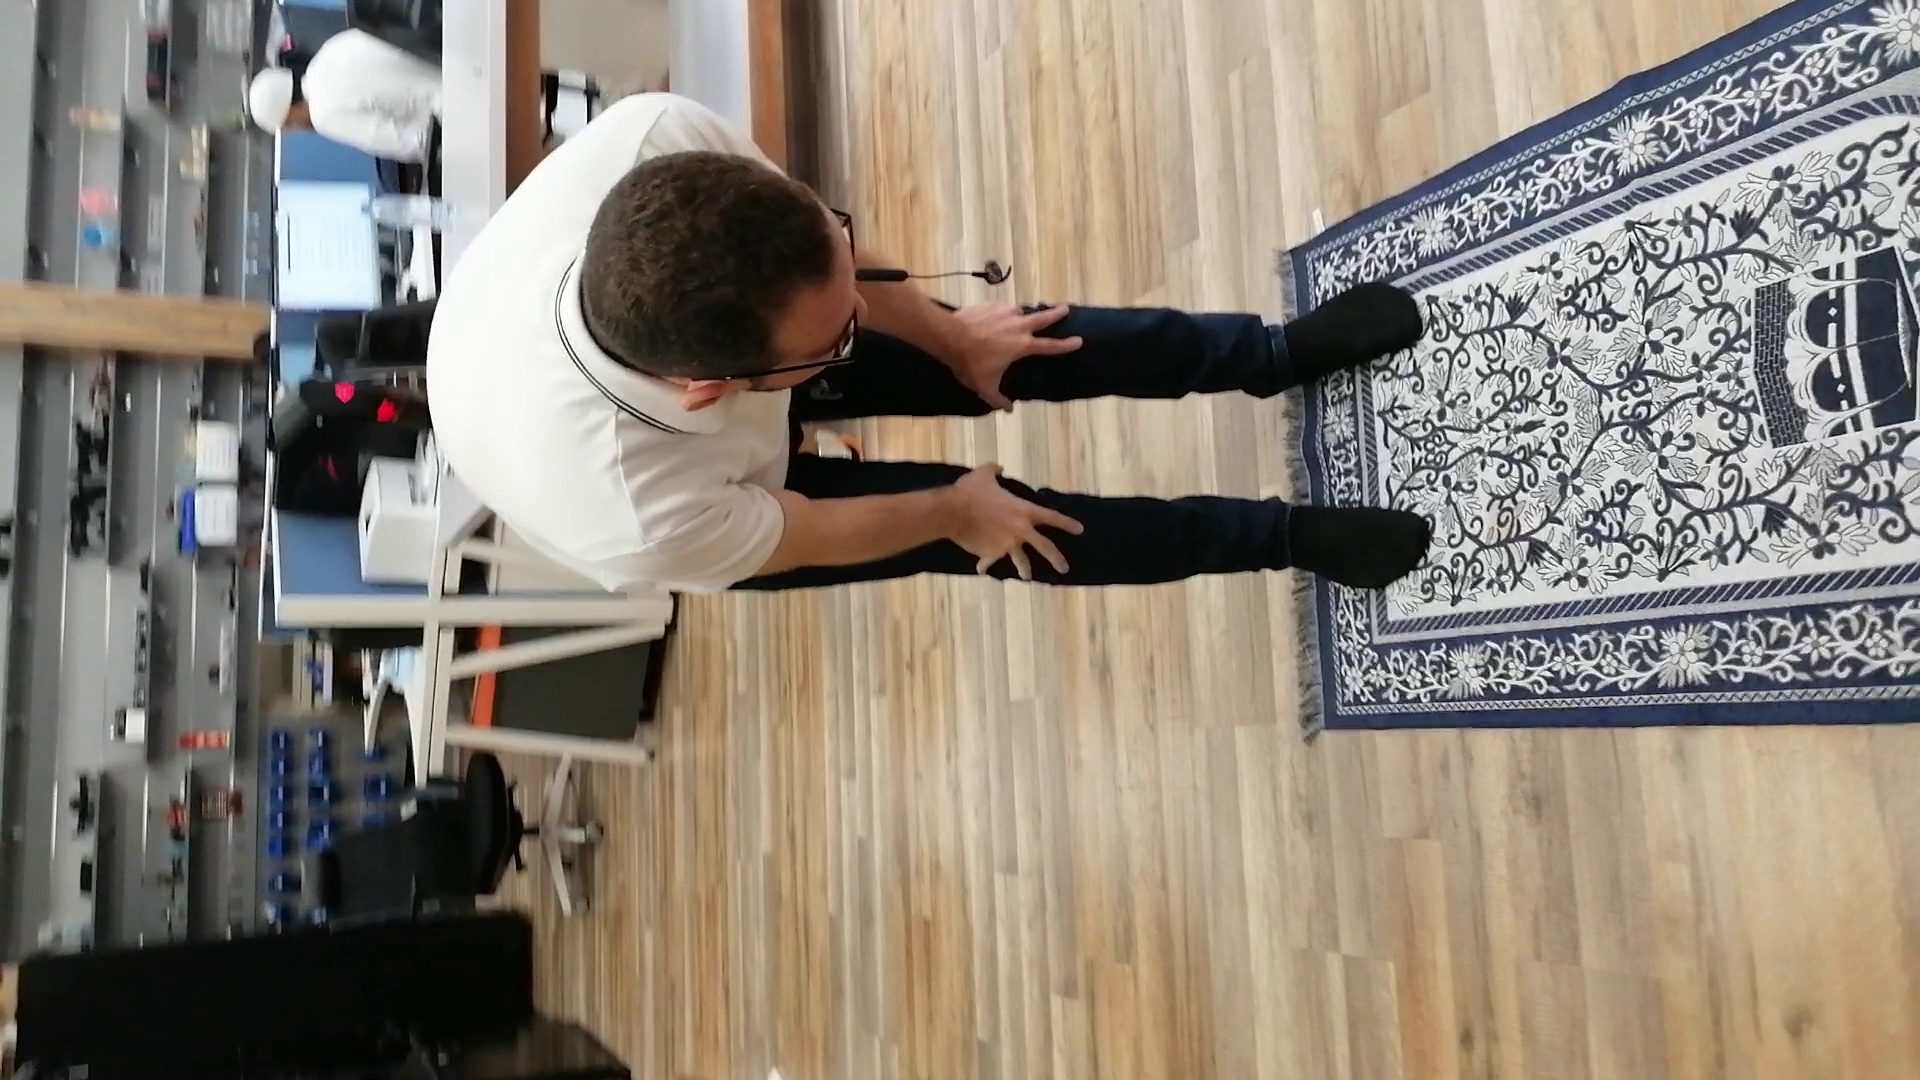ruku: (307, 41, 1578, 822)
